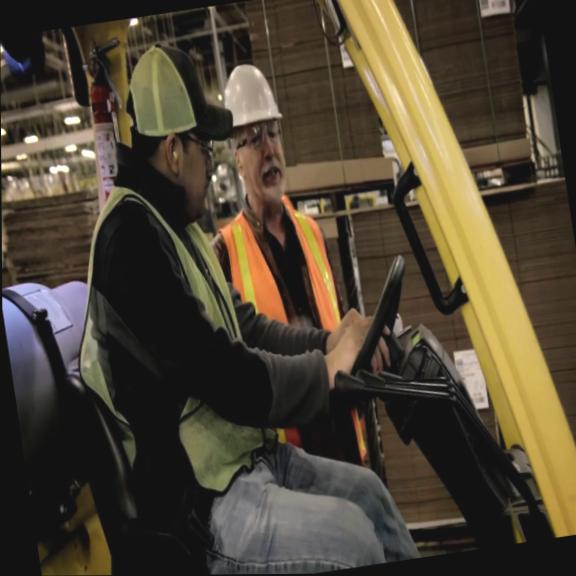safety_vest: (50, 160, 270, 514), (215, 179, 370, 477)
